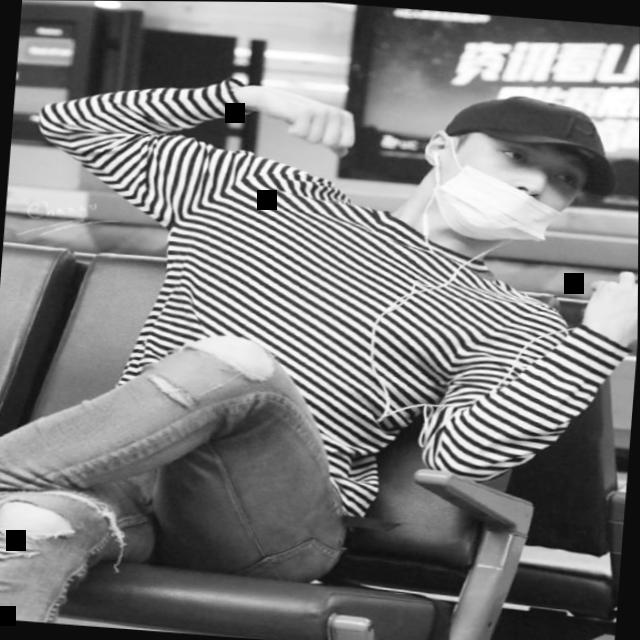Mask: (397, 79, 618, 260)
